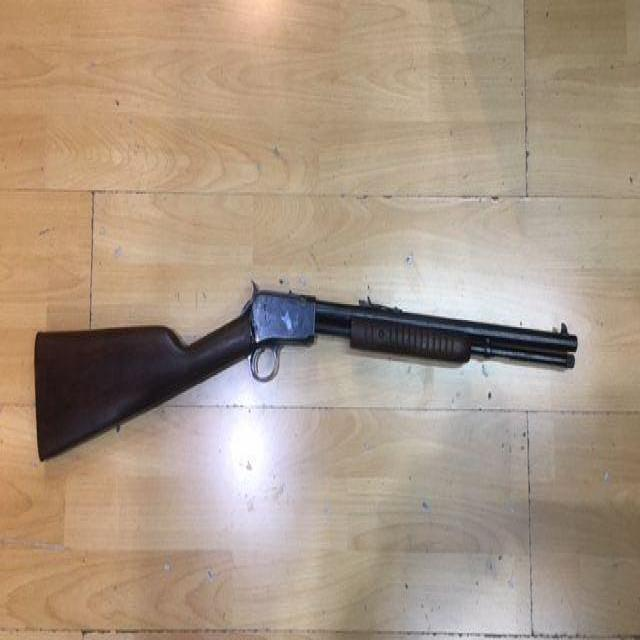weapon: (32, 276, 580, 466)
